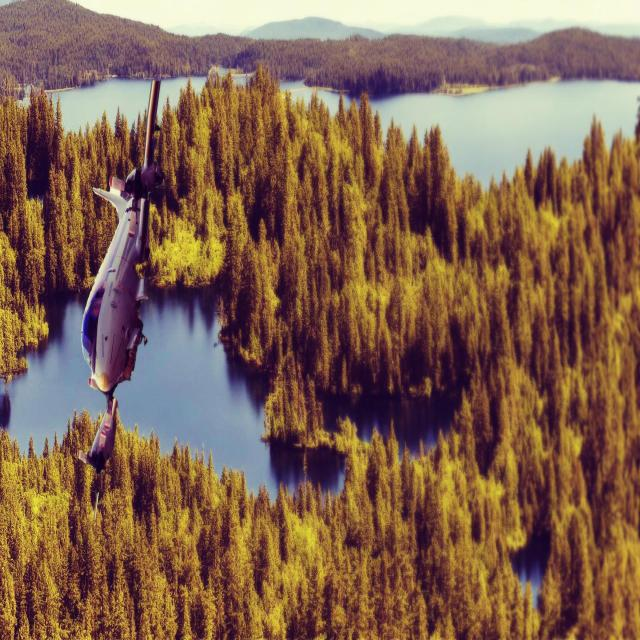airplane: (77, 77, 165, 474)
